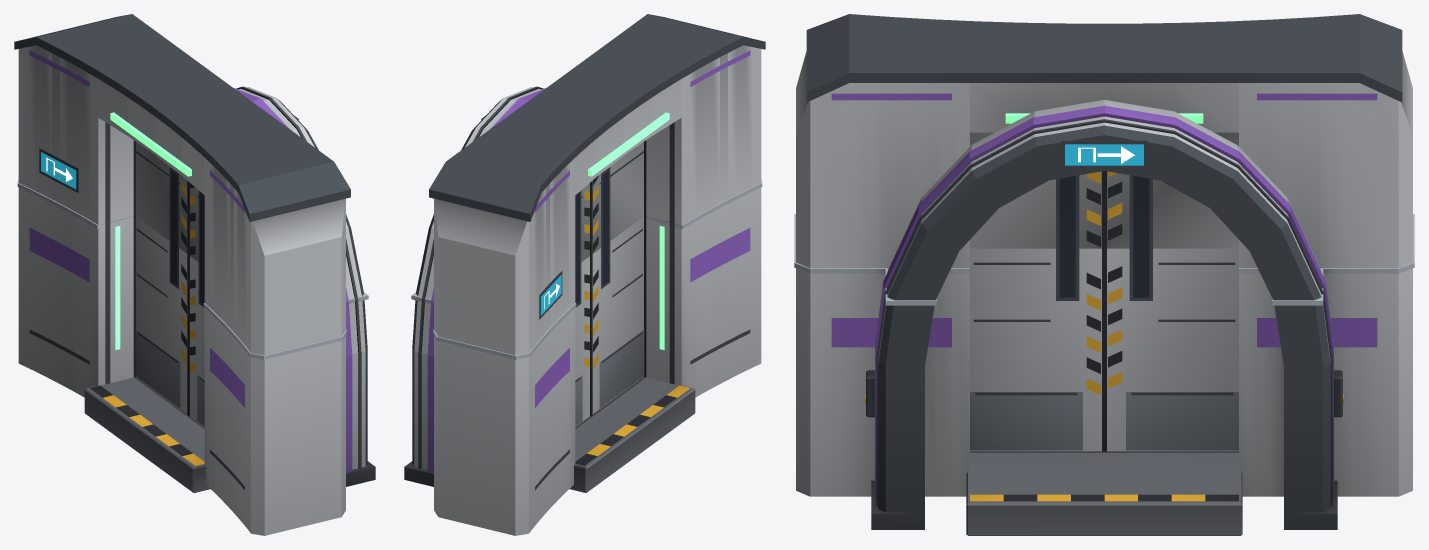
The model's file is doorway_flat_r850.glb.
The picture shows the model from 3 angles, left to right: view 1: azimuth 30°, elevation 25°; view 2: azimuth 150°, elevation 25°; view 3: azimuth 270°, elevation 25°; orthographic projection. The views are drawn at different scales.
Parts seen in each view (by area): view 1: FrameTop, Frame, DoorR, DoorRTop, DoorL, FrameCap, DoorLTop, Sign, Status, Lights; view 2: FrameTop, Frame, DoorL, DoorLTop, DoorR, FrameCap, DoorRTop, Status, Lights, Sign; view 3: FrameTop, Frame, DoorL, DoorR, DoorLTop, DoorRTop, Sign, FrameCap.
Part boxes in pixels (box(x1,y1,x2,y2)): FrameTop: box(14, 14, 363, 355); Frame: box(18, 188, 375, 535); DoorR: box(135, 217, 188, 415); DoorRTop: box(135, 142, 188, 255); DoorL: box(188, 256, 204, 426); FrameCap: box(17, 179, 368, 359); DoorLTop: box(188, 181, 204, 266); Sign: box(39, 116, 298, 192); Status: box(110, 112, 191, 176); Lights: box(115, 226, 120, 350); FrameTop: box(416, 14, 765, 355); Frame: box(404, 188, 761, 535); DoorL: box(591, 217, 644, 415); DoorLTop: box(591, 142, 644, 255); DoorR: box(575, 256, 591, 426); FrameCap: box(411, 179, 762, 359); DoorRTop: box(575, 181, 591, 266); Status: box(588, 112, 669, 176); Lights: box(659, 226, 664, 350); Sign: box(481, 116, 562, 319); FrameTop: box(796, 14, 1412, 300); Frame: box(796, 268, 1412, 535); DoorL: box(970, 248, 1104, 451); DoorR: box(1104, 248, 1238, 451); DoorLTop: box(970, 132, 1104, 248); DoorRTop: box(1104, 132, 1238, 248); Sign: box(1061, 140, 1147, 168); FrameCap: box(794, 214, 1414, 305).
Bounding box in the file's own units: 1.24 × 2.67 × 3.46.
